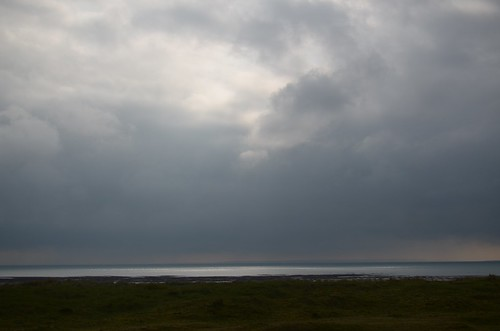grass: (1, 285, 500, 331)
sea: (1, 261, 499, 281)
sky: (5, 1, 500, 257)
